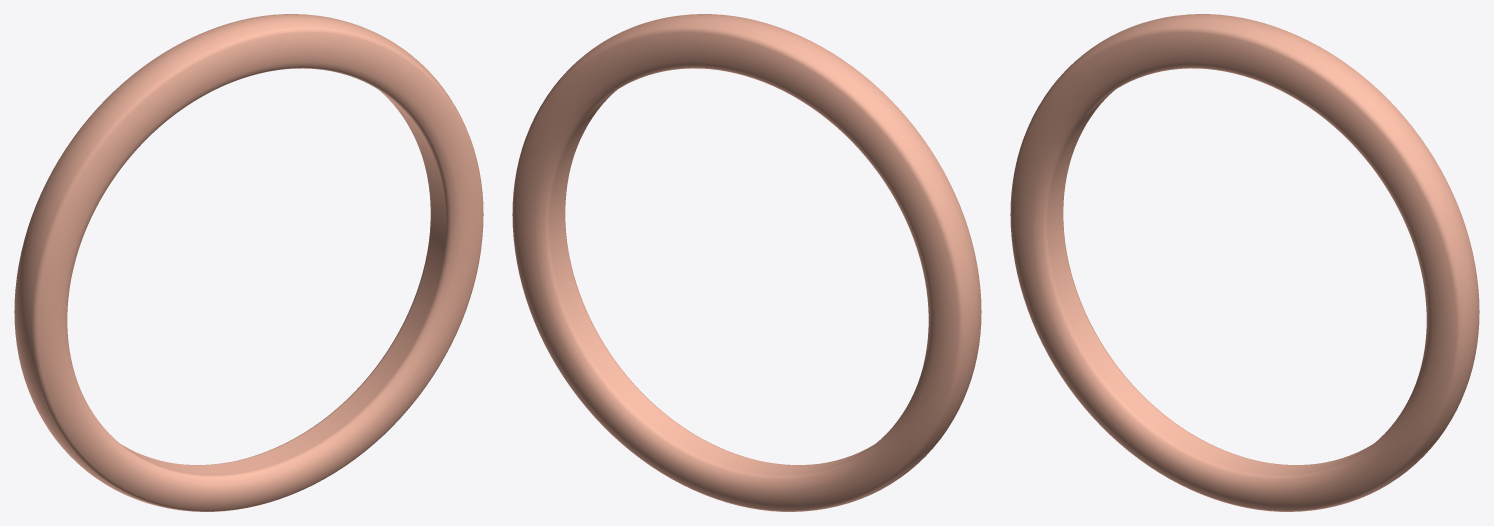
Rendered from shank1.glb.
3 views of the same model, side by side, from view 1: azimuth 30°, elevation 25°; view 2: azimuth 150°, elevation 25°; view 3: azimuth 330°, elevation 25° (orthographic).
Visible parts, largest first — view 1: /Ring-1.3dm; view 2: /Ring-1.3dm; view 3: /Ring-1.3dm.
Part boxes in pixels (bbox=[...]): /Ring-1.3dm: bbox=[14, 14, 483, 511]; /Ring-1.3dm: bbox=[512, 14, 981, 511]; /Ring-1.3dm: bbox=[1010, 14, 1479, 511].
Bounding box in the file's own units: 2.82 × 2.82 × 0.2723.
